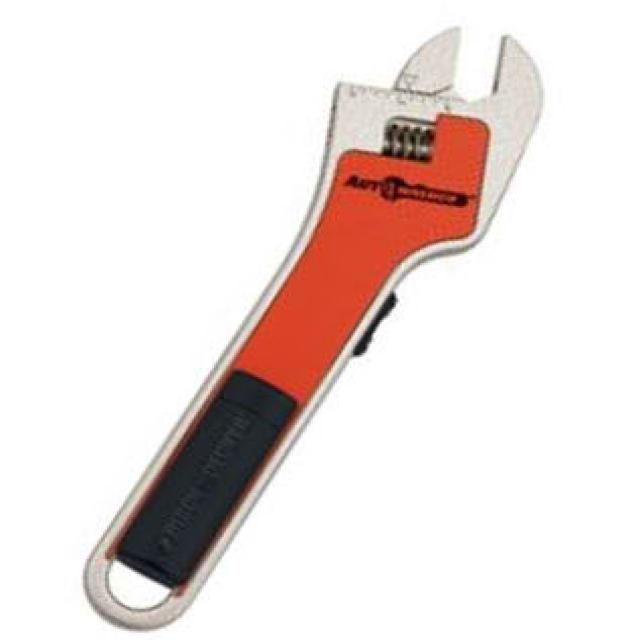wrench: (183, 19, 569, 466)
